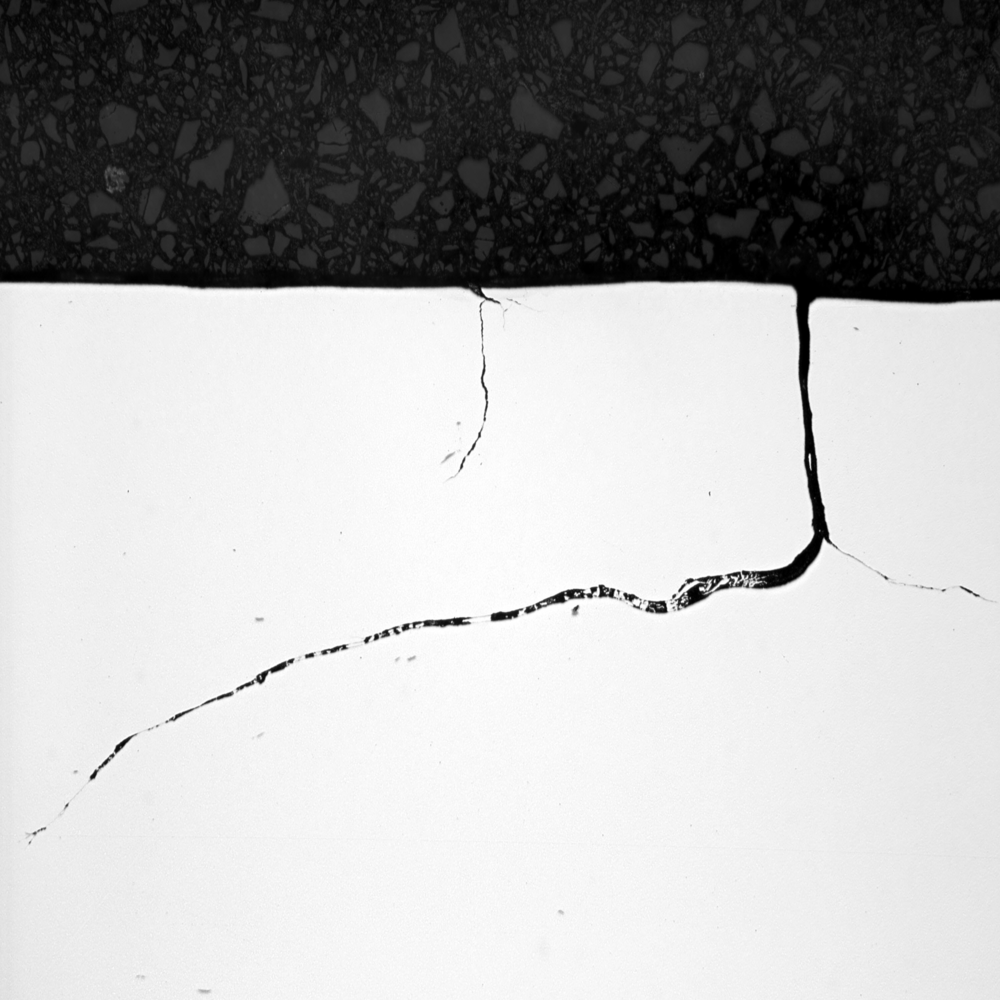crack: (20, 288, 1000, 869), (434, 275, 511, 487)
